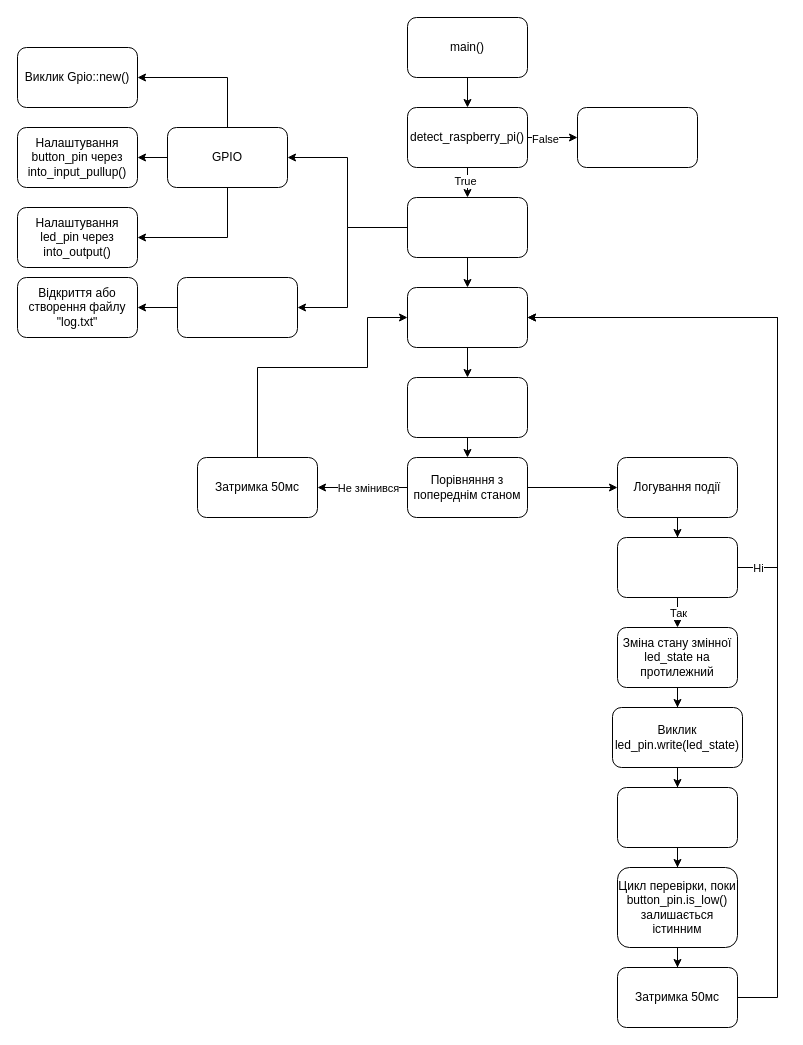
Image size: 803x1045. Some labels were removed from this diagram. Here are the shapes that lost their labels. From the top down, the centre of each, then its label:
(637,137): "Ініціалізація GPIO неможлива"
(467,227): Ініціалізація
(237,307): Логування
(467,317): loop()
(467,407): Отримання поточного значення через button_pin.read()
(677,567): Якщо кнопка натиснута (Level::Low)
(677,817): Логування зміни світлодіода
